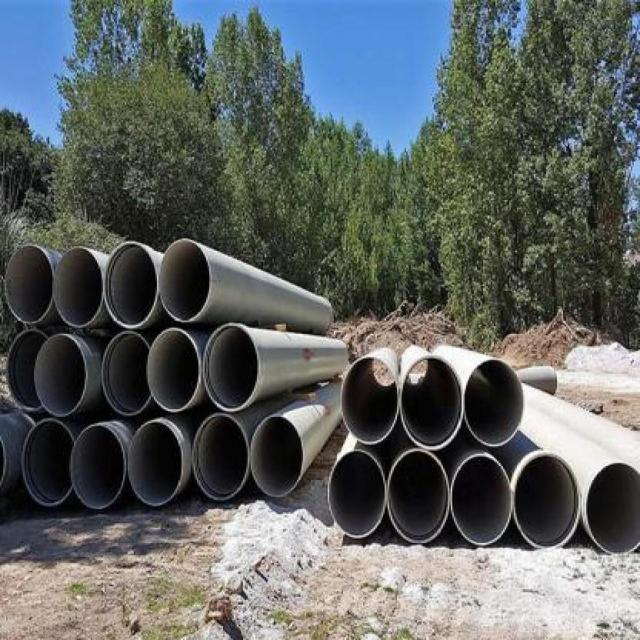pipe: (511, 451, 583, 551), (385, 447, 452, 547), (398, 354, 466, 452), (447, 452, 515, 548), (199, 321, 264, 414), (462, 357, 527, 450), (327, 447, 390, 541), (190, 411, 253, 504), (338, 354, 400, 447), (123, 418, 186, 508), (68, 421, 128, 512), (583, 460, 640, 555), (145, 325, 205, 414), (246, 412, 306, 500), (156, 236, 215, 324), (103, 240, 161, 329), (21, 418, 77, 509), (32, 332, 90, 419), (99, 330, 152, 419), (51, 247, 107, 330), (2, 243, 55, 326), (5, 327, 47, 414)
